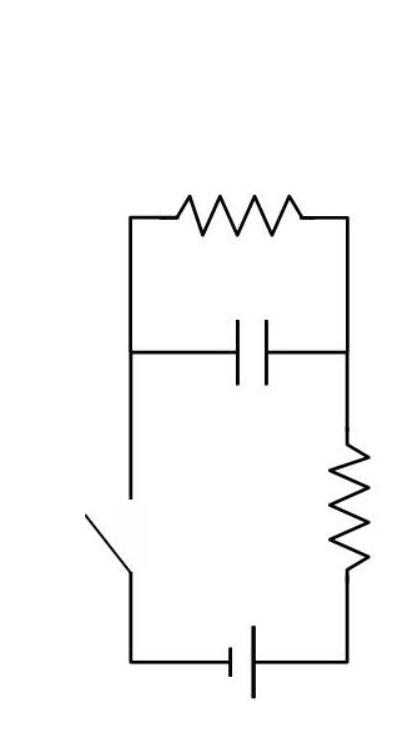resistor: (306, 419, 390, 593), (157, 178, 324, 246)
